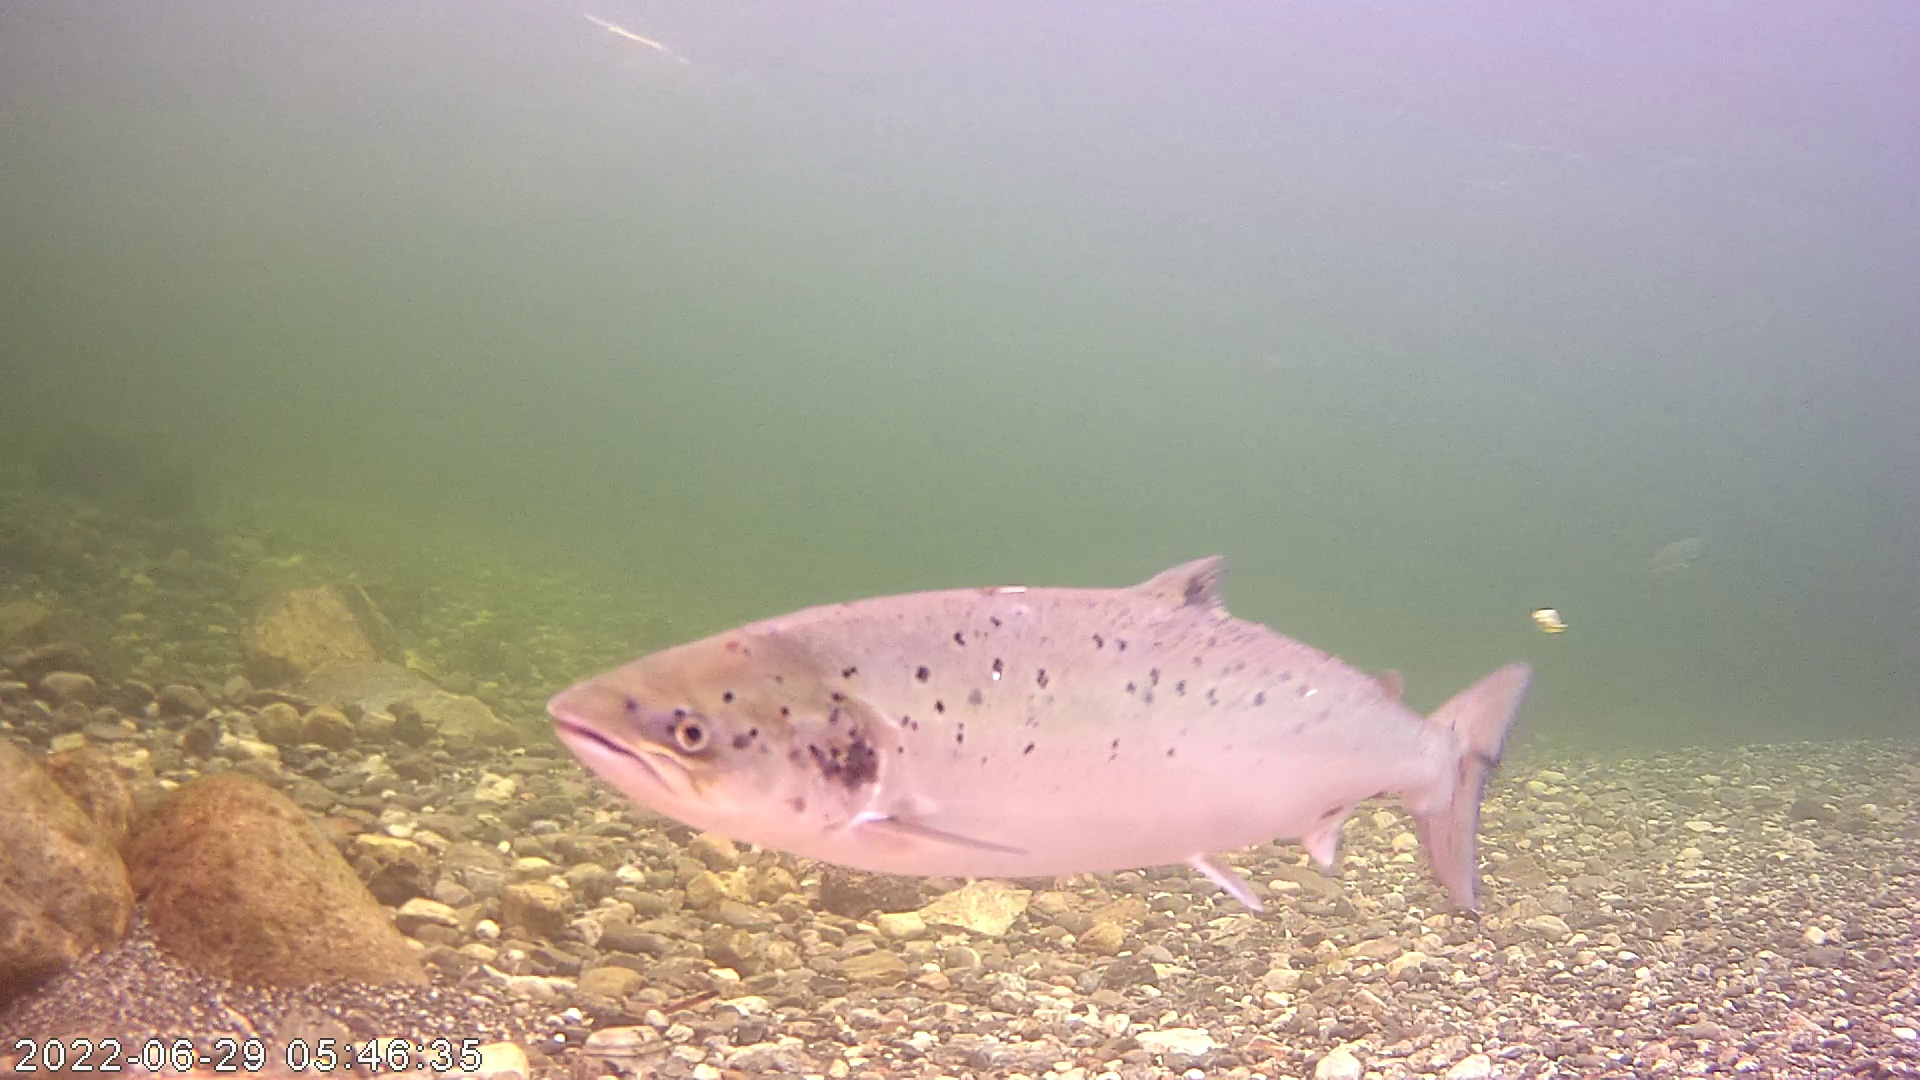salmon: (542, 429, 1539, 913)
